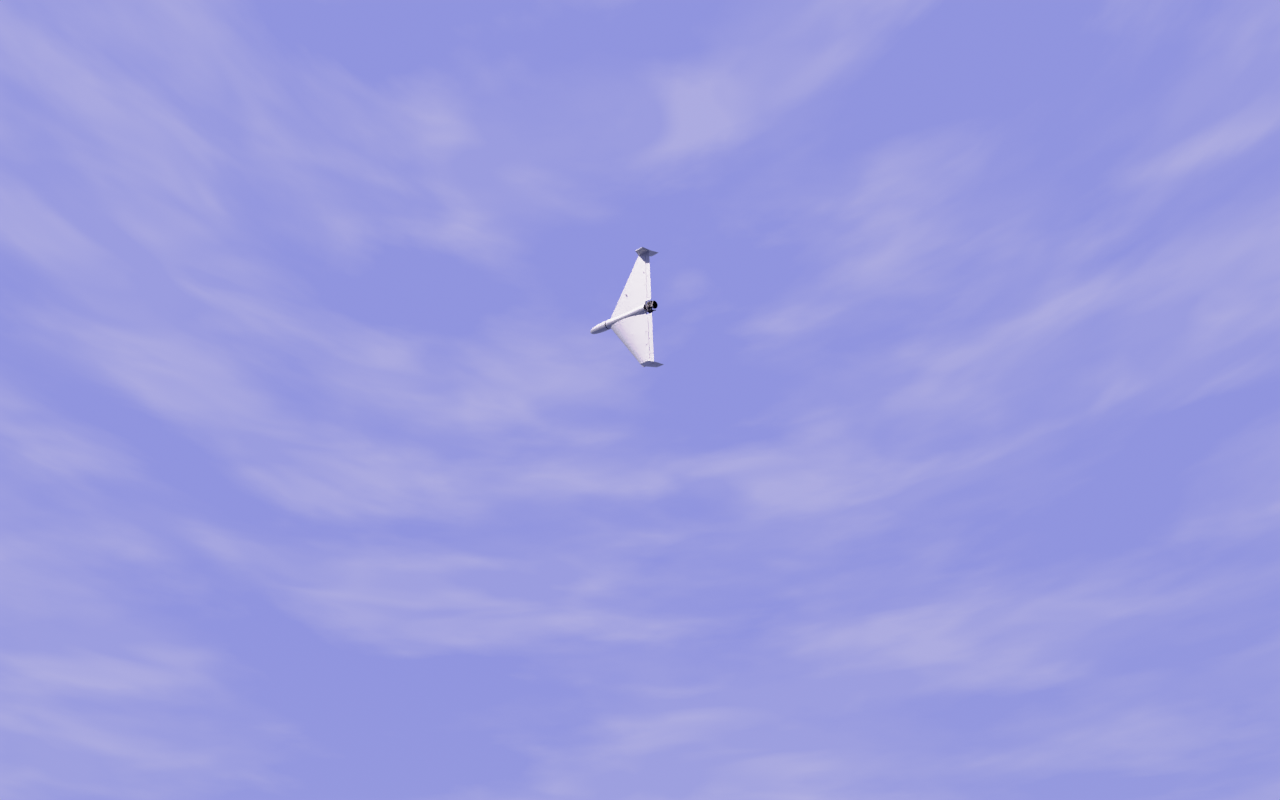shahed: (590, 247, 666, 369)
